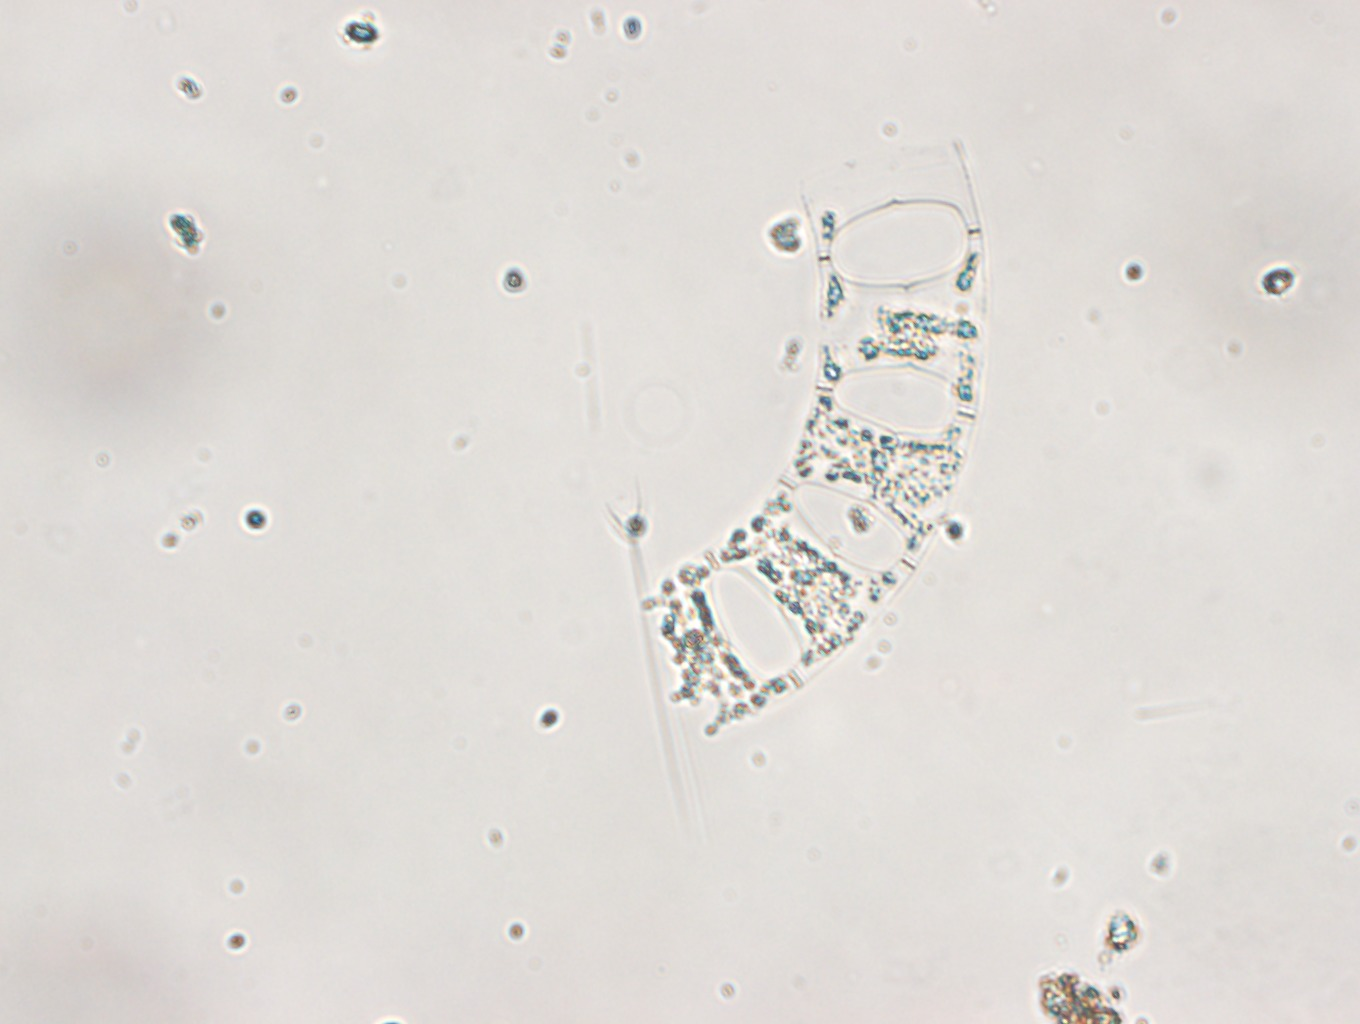eucampia: (639, 140, 993, 741)
